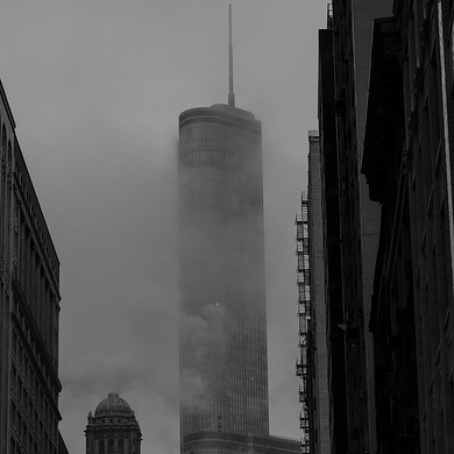building: (300, 1, 454, 449), (170, 100, 275, 454), (1, 86, 73, 452), (85, 390, 150, 454)
sky: (62, 1, 180, 378)
